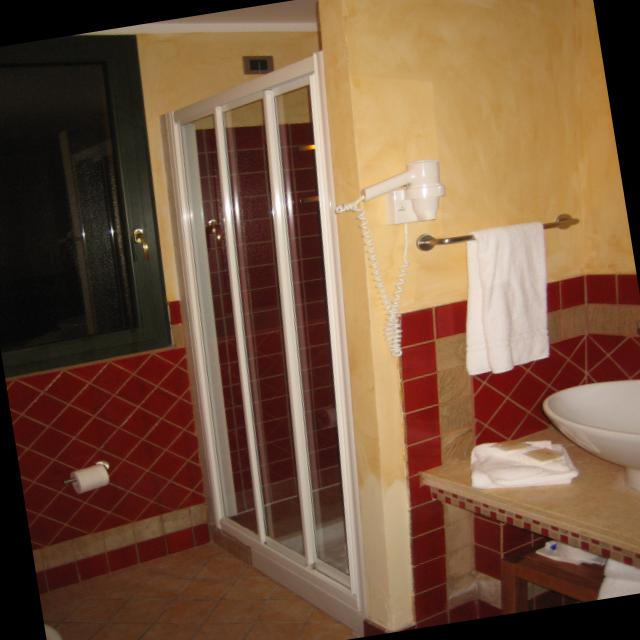2001: (0, 63, 132, 348)
ground: (40, 542, 359, 640)
shower door: (158, 45, 361, 605)
toilet paper: (69, 462, 111, 492)
towel basket: (459, 219, 553, 375), (470, 439, 583, 494)
